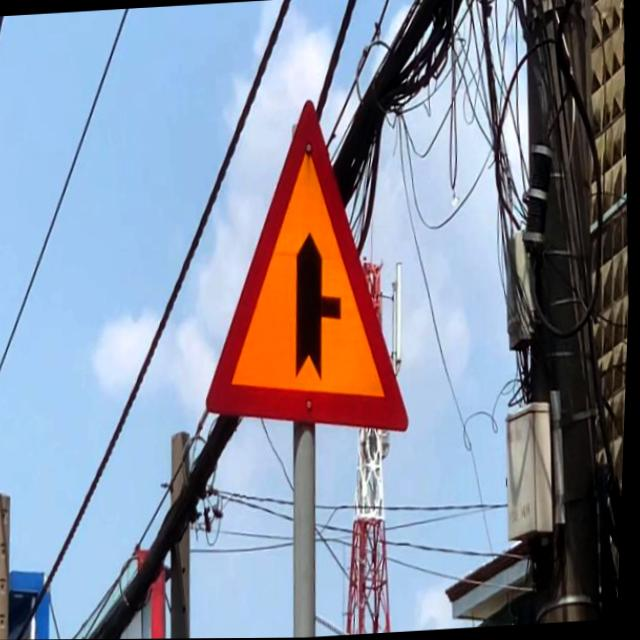Giao nhau voi duong khong uu tien ben phai: (183, 81, 430, 457)
